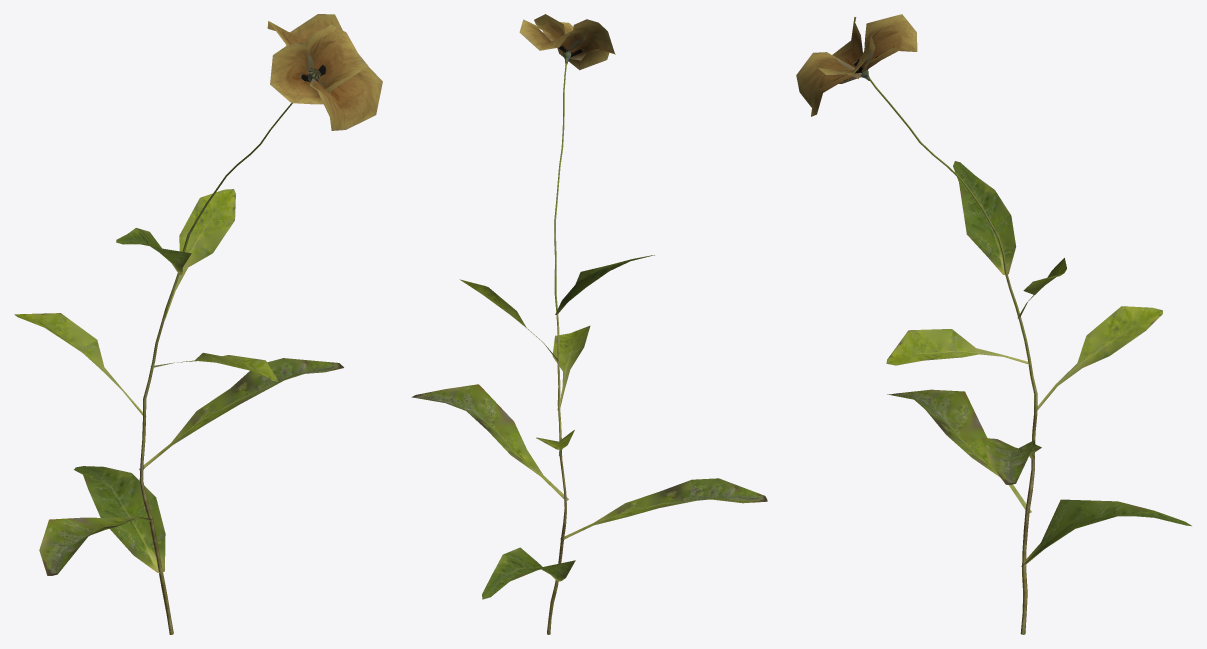
Rendered from Poppy_OG_normal_yellowgreen.glb.
3 views of the same model, side by side, from view 1: azimuth 30°, elevation 25°; view 2: azimuth 150°, elevation 25°; view 3: azimuth 270°, elevation 25° (orthographic). The views are drawn at different scales.
Visible parts, largest first — view 1: xtall; view 2: xtall; view 3: xtall.
Part boxes in pixels (<box>): xtall: <box>14,14,382,634</box>; xtall: <box>411,14,767,634</box>; xtall: <box>796,14,1191,634</box>.
Size of the model in its own units: 1.75 by 3.06 by 1.73.
1 material, 1 textured.
